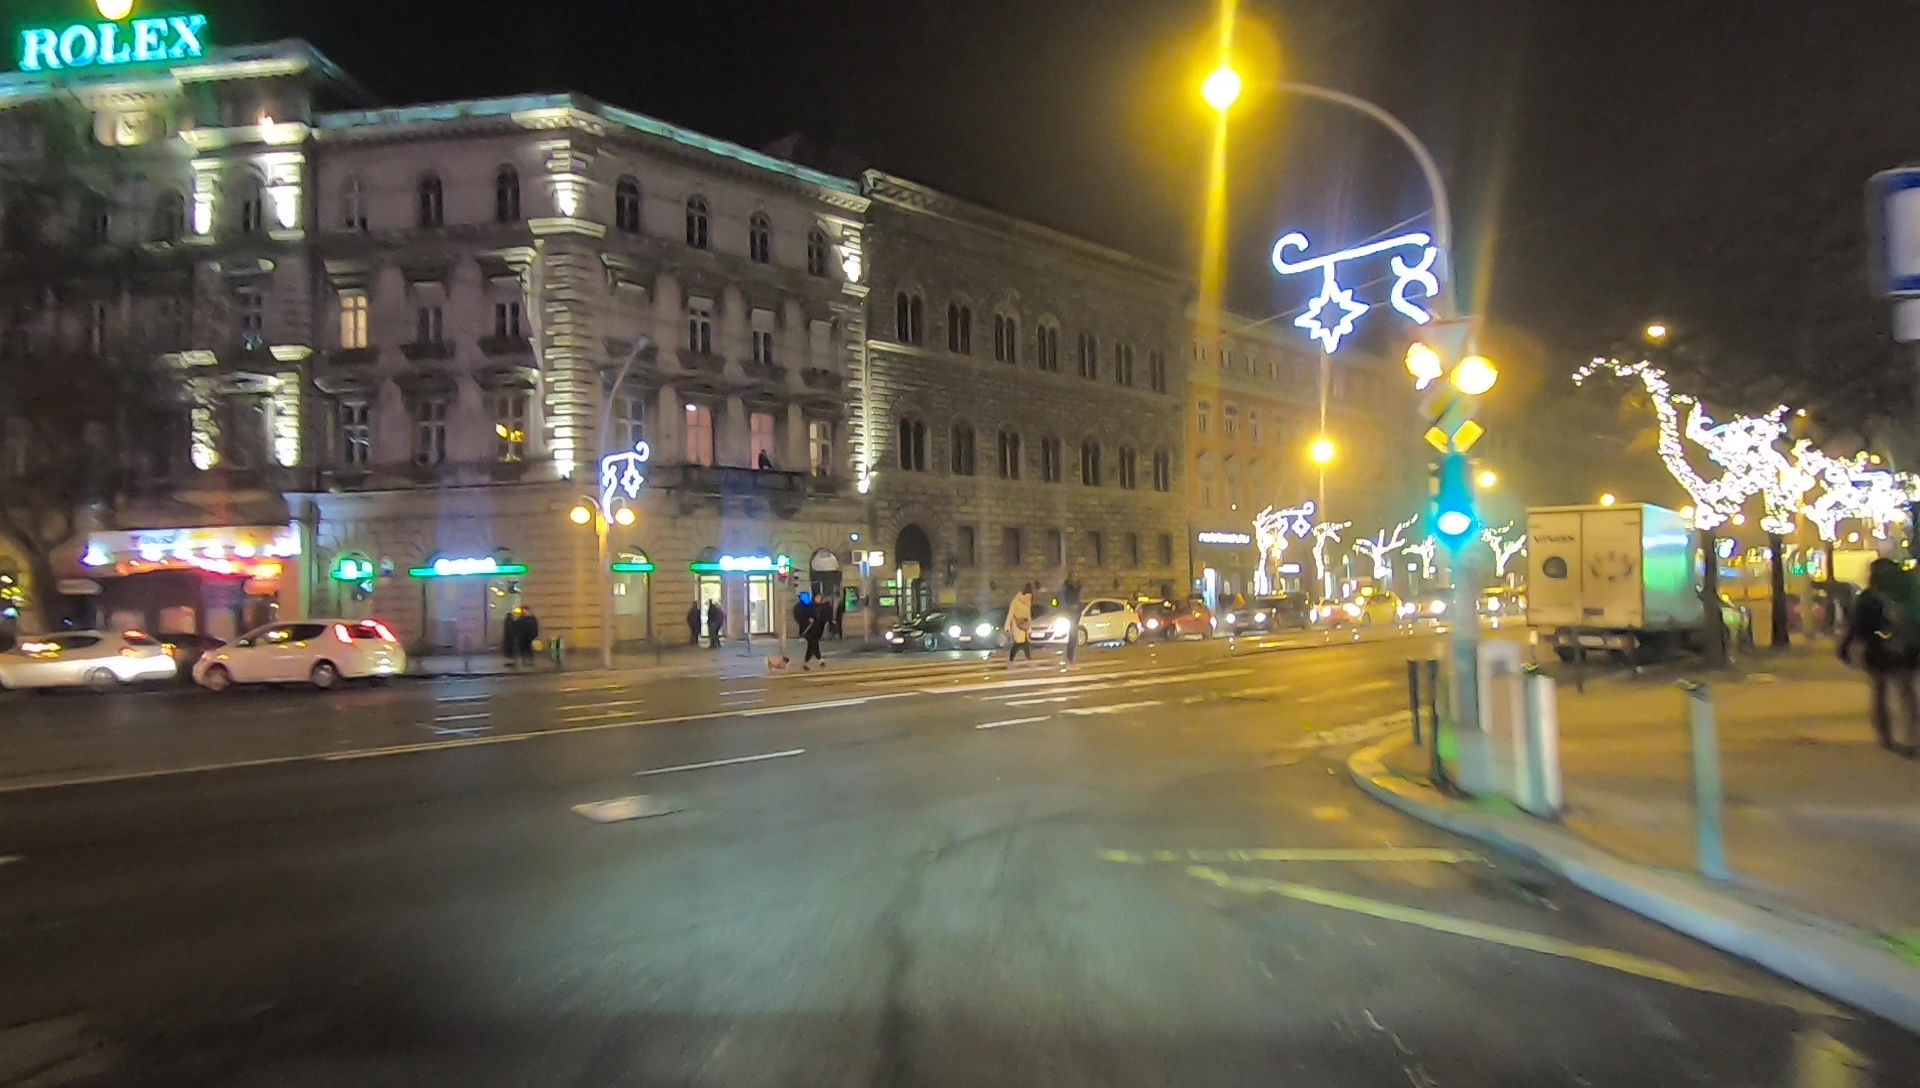person: (1843, 559, 1920, 743), (1006, 580, 1039, 663), (799, 595, 831, 669), (1062, 576, 1086, 669), (514, 606, 541, 667), (503, 606, 522, 667), (706, 598, 726, 650), (686, 599, 700, 645)
